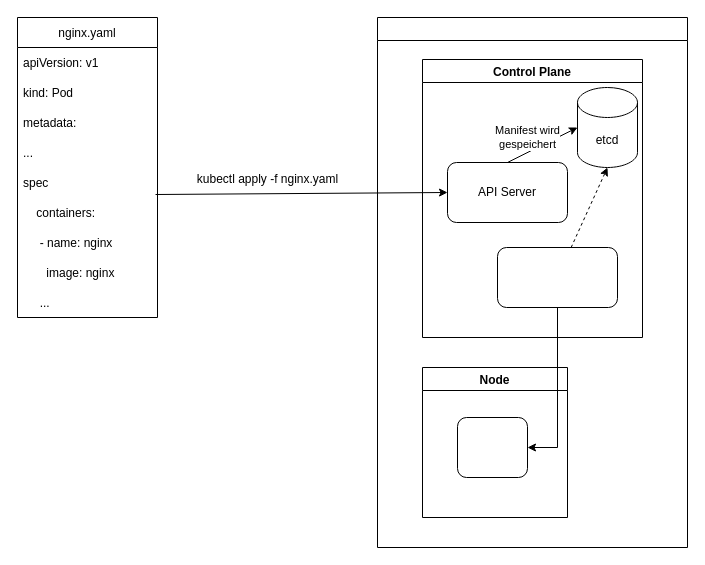
Image size: 705x565. Some labels were removed from this diagram. Each missing label, with the box of its shape:
Kubernetes Cluster: (376, 16, 688, 548)
nginx Pod: (456, 416, 528, 478)
scheduler: (496, 246, 618, 308)
